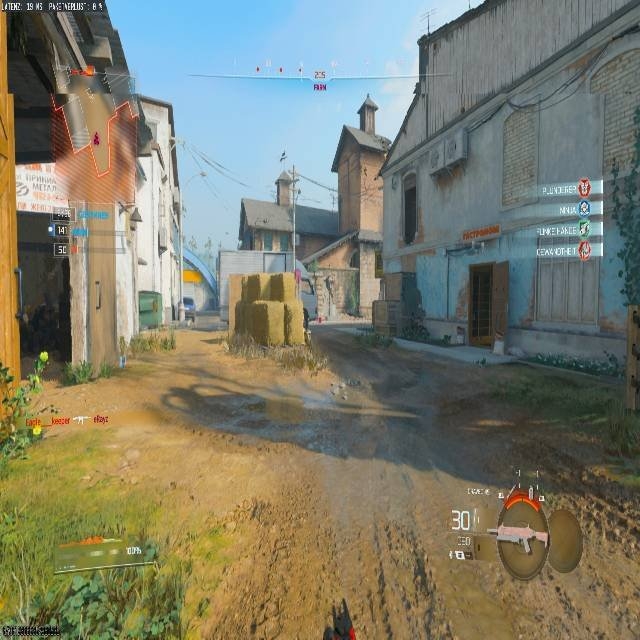player: (179, 293, 195, 325)
